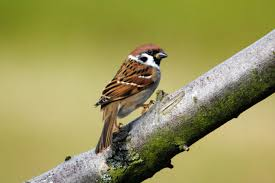hsparrow: (89, 40, 171, 159)
